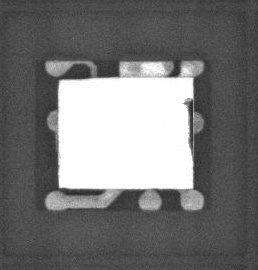DIE_BROKEN: (182, 96, 195, 160)
